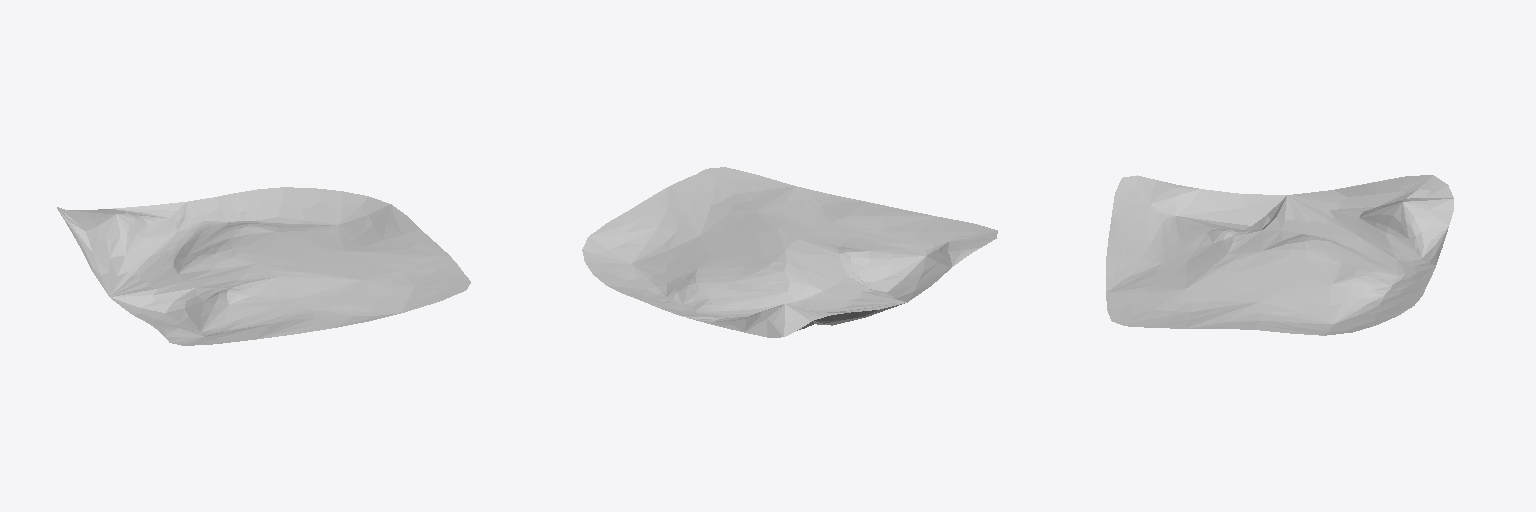
The model's file is canyon_floor.obj.
3 renders of one model, left to right at view 1: azimuth 30°, elevation 25°; view 2: azimuth 150°, elevation 25°; view 3: azimuth 270°, elevation 25°, orthographic.
Visible parts, largest first — view 1: canyon.floor_Plane.006; view 2: canyon.floor_Plane.006; view 3: canyon.floor_Plane.006.
Boxes of the visible parts, x1=… form: canyon.floor_Plane.006: x1=57, y1=187, x2=470, y2=345; canyon.floor_Plane.006: x1=582, y1=167, x2=997, y2=337; canyon.floor_Plane.006: x1=1106, y1=175, x2=1453, y2=335.
Bounding box in the file's own units: 354 × 45.67 × 339.